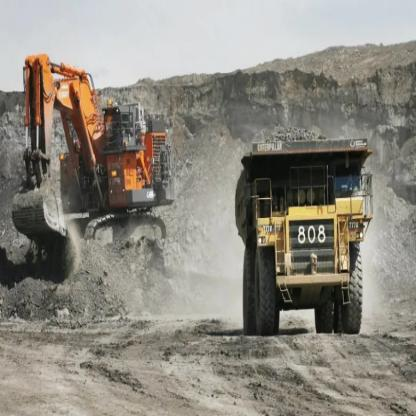dump_truck: (227, 105, 381, 342)
excavator: (10, 44, 184, 268)
